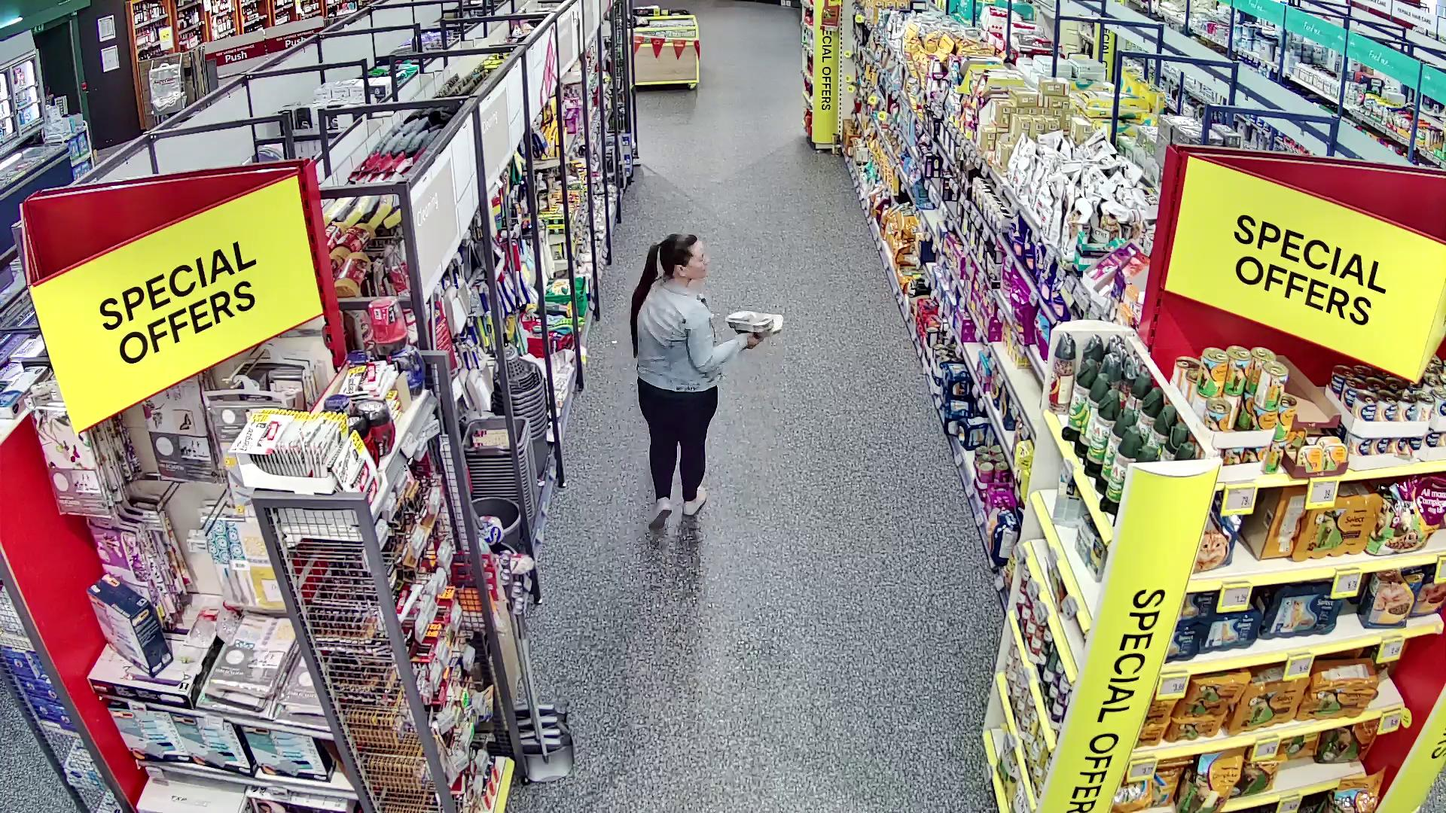carrying-item: (726, 310, 784, 340)
person: (630, 233, 756, 530)
person-with-carrying-item: (631, 233, 784, 532)
